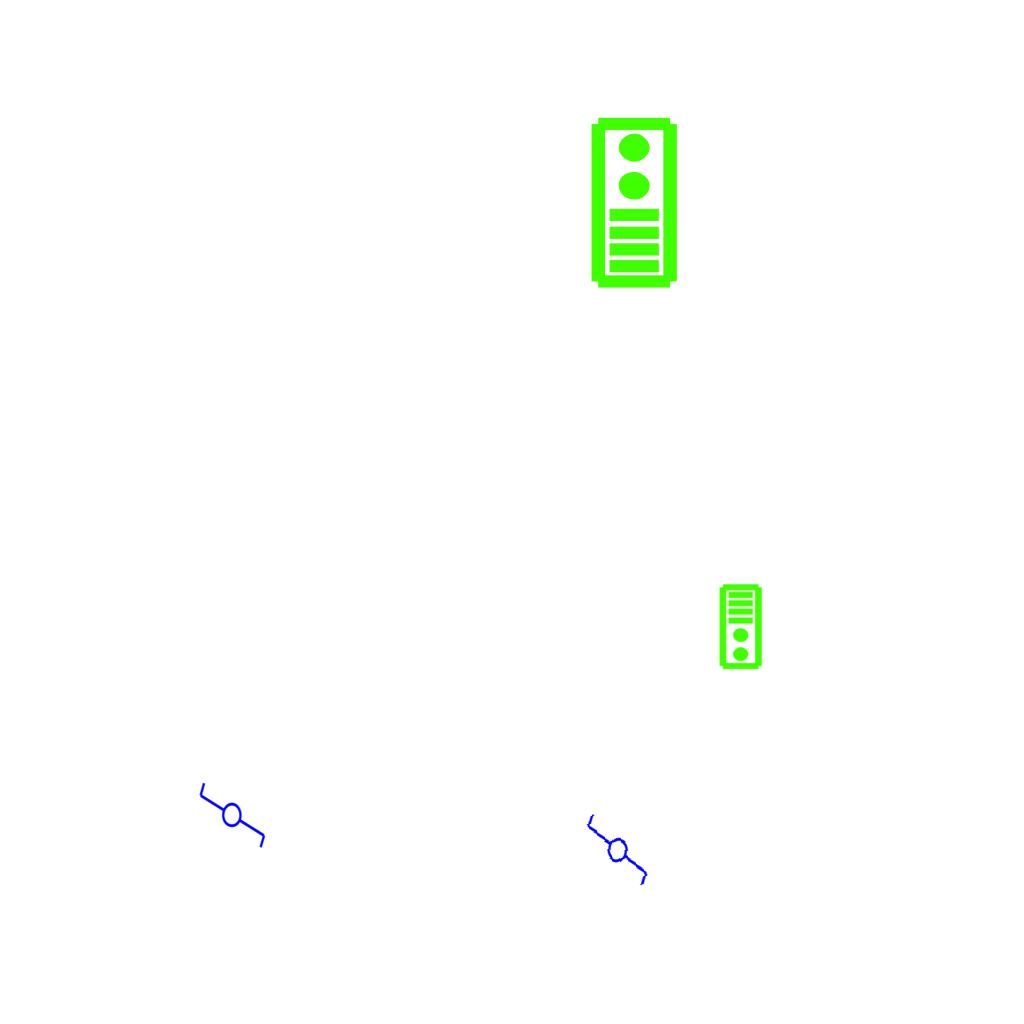Gegensprechanlage_mit_Video: (585, 114, 680, 290), (718, 583, 765, 671)
Wechselschalter: (575, 810, 657, 898), (197, 772, 269, 850)
